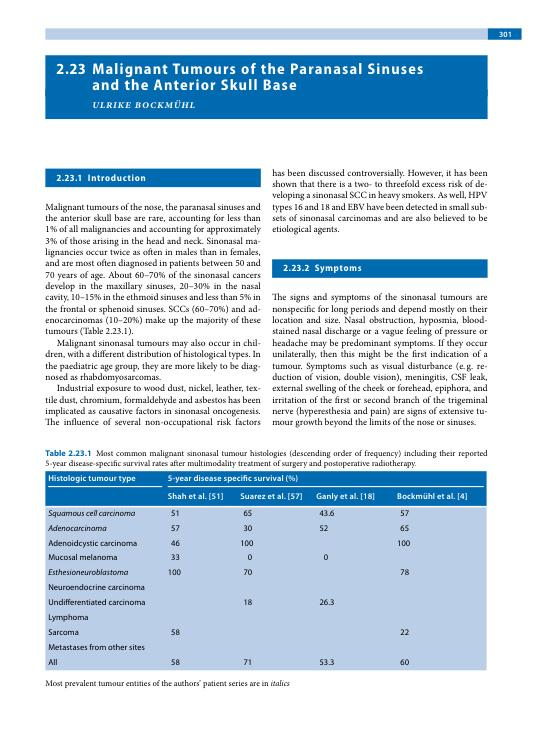caption: (43, 448, 488, 470)
chapter-heading: (91, 61, 424, 93)
section-heading: (86, 173, 147, 184), (313, 262, 363, 274)
table: (44, 471, 487, 689)
text: (44, 201, 262, 429), (270, 291, 489, 429), (271, 167, 489, 236)
